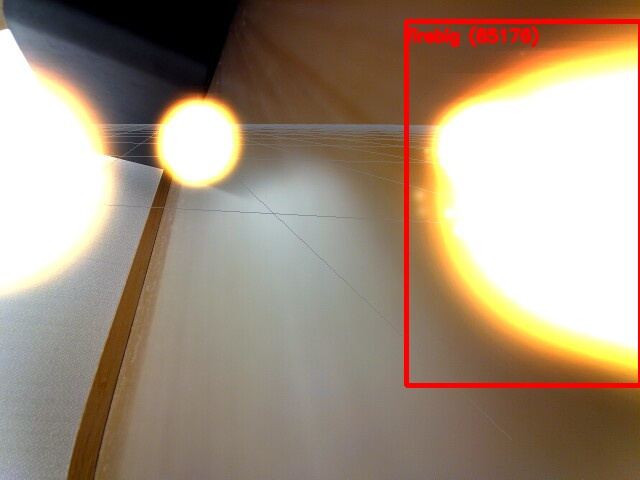firebig: (406, 21, 640, 385)
